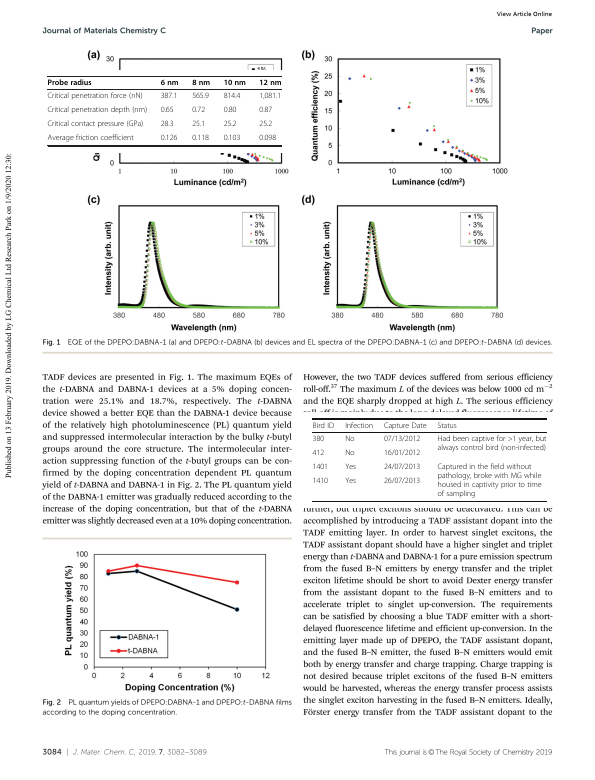borderless: (312, 417, 547, 501), (46, 75, 281, 145)
cell: (436, 462, 542, 499), (436, 434, 547, 453), (47, 106, 148, 115), (47, 120, 144, 129), (47, 92, 143, 101), (47, 134, 135, 143), (383, 421, 427, 430), (383, 434, 421, 444), (383, 448, 421, 458), (383, 462, 421, 472), (383, 476, 421, 486), (47, 79, 93, 87), (344, 421, 374, 430), (258, 92, 282, 101), (312, 421, 335, 430), (436, 421, 458, 430), (223, 79, 247, 87), (258, 79, 282, 87), (191, 92, 210, 101), (191, 134, 210, 143), (258, 134, 277, 143), (312, 462, 329, 472), (312, 476, 329, 486), (160, 92, 178, 101), (223, 92, 241, 101), (160, 134, 178, 143), (223, 134, 241, 143), (191, 79, 211, 87), (160, 79, 179, 87), (191, 106, 206, 115), (258, 106, 273, 115), (191, 120, 206, 129), (258, 120, 273, 129), (312, 434, 325, 444), (312, 448, 325, 458), (344, 462, 357, 472), (344, 476, 357, 486), (160, 106, 174, 115), (223, 106, 237, 115), (160, 120, 174, 129), (223, 120, 237, 129), (344, 434, 355, 444), (344, 448, 355, 458)
